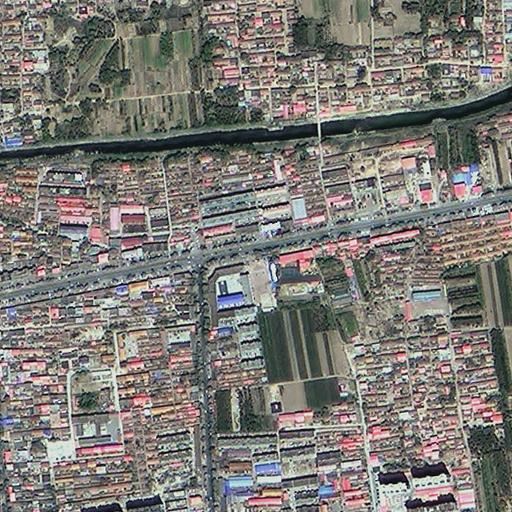school: (246, 251, 283, 312)
